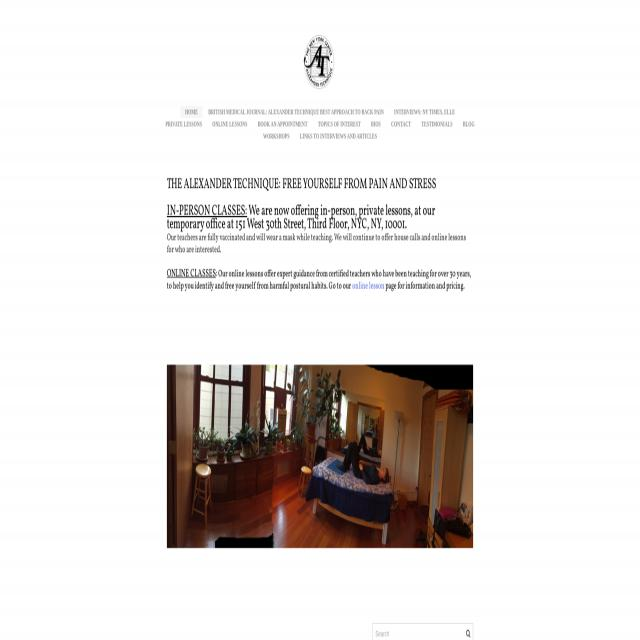button: (167, 364, 473, 548), (302, 31, 338, 91)
field: (372, 624, 472, 640)
